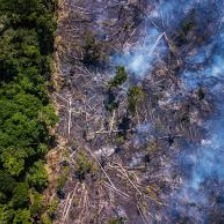incendio: (165, 152, 210, 211), (116, 46, 160, 87)
